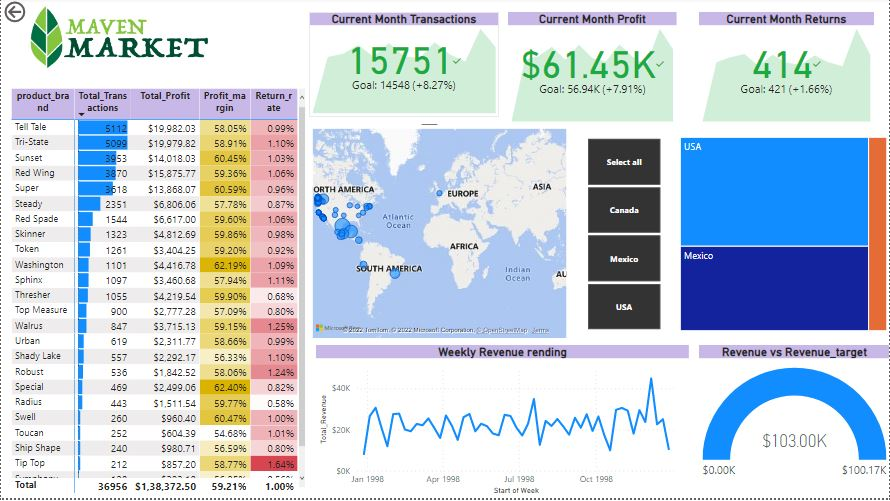

What the dashboard file says about the page in this screenshot:
{"tool":"powerbi","page":{"name":"Maven Market Report","canvas":[1280,720],"ordinal":0},"visuals":[{"type":"image","box":[10.1,0,316.8,112.3],"z":0},{"type":"pivotTable","fields":{"Rows":["Products.product_brand"],"Values":["Transactions.Total_Transactions","Transactions.Total_Profit","Transactions.Profit_margin","Return_Data.Return_rate"]},"box":[10.1,125.3,433.4,593.3],"z":1000},{"type":"kpi","title":"Current Month Transactions","fields":{"Indicator":["Transactions.Total_Transactions"],"TrendLine":["Calendar.Start of Month"],"Goal":["Transactions.Last_month_transactions"]},"box":[443.5,20.2,273.6,151.2],"z":2000},{"type":"kpi","title":"Current Month Profit","fields":{"TrendLine":["Calendar.Start of Month"],"Indicator":["Transactions.Total_Profit"],"Goal":["Transactions.Last_month_profit"]},"box":[730.1,20.2,243.4,162.7],"z":3000},{"type":"kpi","title":"Current Month Returns","fields":{"TrendLine":["Calendar.Start of Month"],"Goal":["Return_Data.Last_month_returns"],"Indicator":["Return_Data.Total_returns"]},"box":[1005.1,20.2,252,162.7],"z":4000},{"type":"map","fields":{"Category":["Customers.customer_city"],"Size":["Transactions.Total_Transactions"]},"box":[443.5,182.9,375.8,312.5],"z":5000},{"type":"slicer","fields":{"Values":["Customers.customer_country"]},"box":[819.4,195.8,154.1,288],"z":6000},{"type":"treemap","title":"Total_Transactions by Country","fields":{"Values":["Transactions.Total_Transactions"],"Group":["Customers.customer_country Hierarchy.customer_country","Customers.customer_country Hierarchy.customer_state_province","Customers.customer_country Hierarchy.customer_city"]},"box":[973.4,195.8,306.7,288],"z":7000},{"type":"gauge","title":"Revenue vs Revenue_target","fields":{"Y":["Transactions.Total_Revenue"],"MaxValue":["Transactions.Revenue_target"]},"box":[1005.1,499.7,275,210.2],"z":8000},{"type":"lineChart","title":"Weekly Revenue rending","fields":{"Category":["Calendar.Start of Week"],"Y":["Transactions.Total_Revenue"]},"box":[453.6,499.7,537.1,220.3],"z":9000},{"type":"actionButton","box":[0,0,100,40],"z":10000}]}

Visuals, with their boxes in screenshot pixels (x1, y1, x2, y2), scaled from the page's 1280x720 canvas onto the 890x501 screenshot:
image: bbox=[7, 0, 227, 78]
pivotTable - Products.product_brand x Transactions.Total_Transactions: bbox=[7, 87, 308, 500]
"Current Month Transactions" kpi: bbox=[308, 14, 499, 119]
"Current Month Profit" kpi: bbox=[508, 14, 677, 127]
"Current Month Returns" kpi: bbox=[699, 14, 874, 127]
map - Customers.customer_city x Transactions.Total_Transactions: bbox=[308, 127, 570, 345]
slicer - Customers.customer_country: bbox=[570, 136, 677, 337]
"Total_Transactions by Country" treemap: bbox=[677, 136, 889, 337]
"Revenue vs Revenue_target" gauge: bbox=[699, 348, 889, 494]
"Weekly Revenue rending" lineChart: bbox=[315, 348, 689, 500]
actionButton: bbox=[0, 0, 70, 28]
